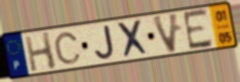C: (53, 31, 83, 66)
E: (181, 7, 215, 52)
H: (23, 30, 58, 74)
J: (94, 24, 116, 62)
V: (150, 11, 181, 55)
X: (114, 18, 152, 60)
